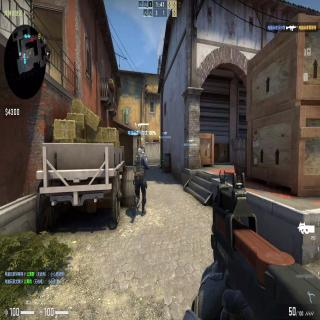CT-Body: (132, 142, 150, 216)
CT-Head: (138, 145, 146, 155)
